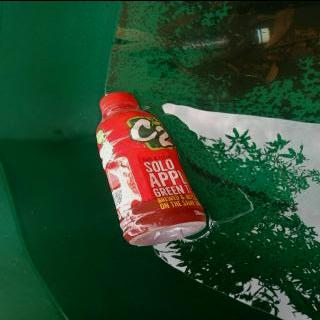bottle: (92, 90, 208, 247)
